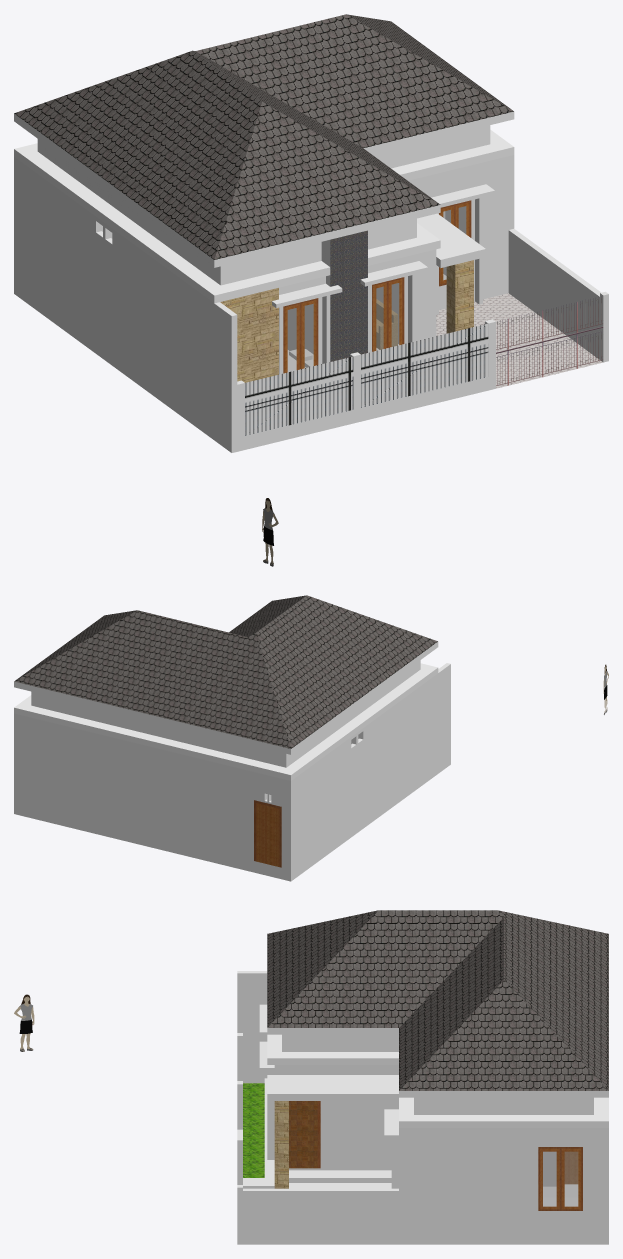
Rendered from rumah.glb.
3 views of the same model, one above another, from view 1: azimuth 30°, elevation 25°; view 2: azimuth 150°, elevation 25°; view 3: azimuth 270°, elevation 25° (orthographic). The views are drawn at different scales.
Visible parts, largest first — view 1: Material3 (×8), Material2 (×4); view 2: Material3 (×4), Material2; view 3: Material3 (×8), Material2 (×2).
Boxes of the visible parts, <box> form: Material3 (×8): <box>14,14,608,452</box>; Material2 (×4): <box>220,206,603,435</box>; Material3 (×4): <box>14,595,450,881</box>; Material2: <box>256,803,279,866</box>; Material3 (×8): <box>237,910,608,1244</box>; Material2 (×2): <box>540,1148,581,1209</box>.
Size of the model in its own units: 486 by 263 by 631.
62 materials, 48 textured.
